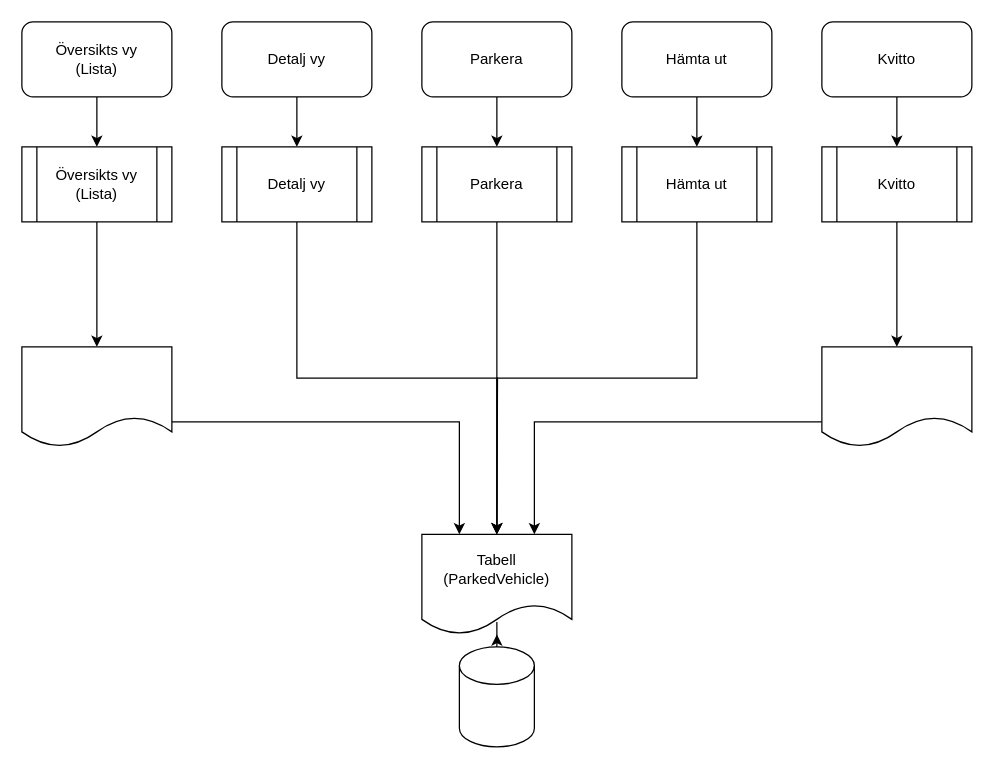
This 994x769 diagram has some shape labels left out. The shapes that lost their labels are listed below. From the top down, each one's centre as x and y in pixels, then its label:
point (96, 396): ViewModel (Översikts vy)
point (896, 396): ViewModel (Kvitto)
point (496, 696): Databas
